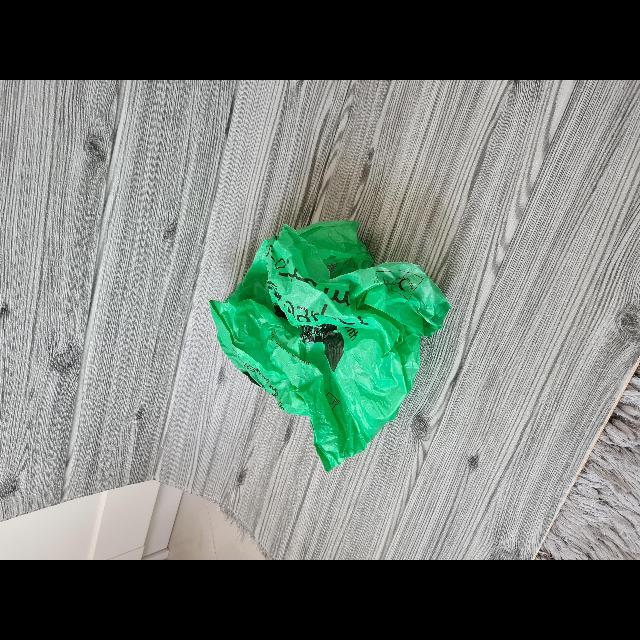sacola plástica: (212, 220, 448, 470)
